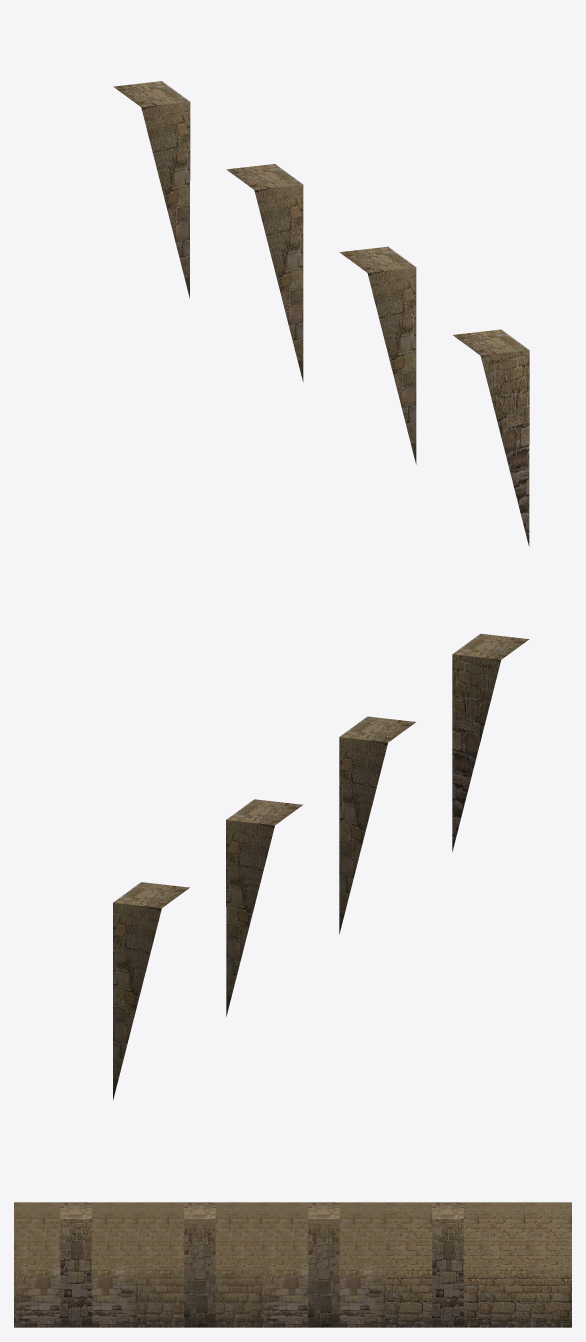
File: M7Z2_WallSection1A.glb
The picture shows the model from 3 angles, top to bottom: view 1: azimuth 30°, elevation 25°; view 2: azimuth 150°, elevation 25°; view 3: azimuth 270°, elevation 25°; orthographic projection. The views are drawn at different scales.
Parts seen in each view (by area): view 1: M7Z2_WALLSECTION1A; view 2: M7Z2_WALLSECTION1A; view 3: M7Z2_WALLSECTION1A.
Boxes of the visible parts, x1,y1,x2,y2 form: M7Z2_WALLSECTION1A: (113, 81, 529, 546); M7Z2_WALLSECTION1A: (113, 633, 529, 1100); M7Z2_WALLSECTION1A: (14, 1202, 571, 1327).
Size of the model in its own units: 2 by 8 by 36.
Materials: 4 (4 with a texture image).
